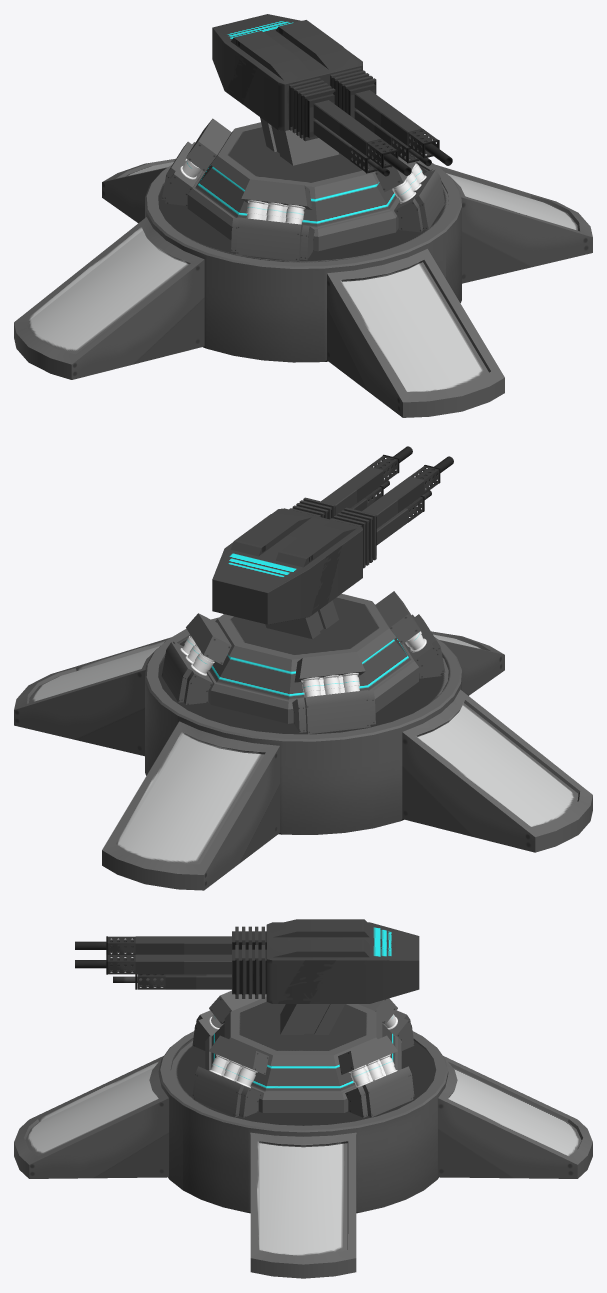
File: turret02_model.fbx
The picture shows the model from 3 angles, top to bottom: view 1: azimuth 30°, elevation 25°; view 2: azimuth 150°, elevation 25°; view 3: azimuth 270°, elevation 25°; orthographic projection. The views are drawn at different scales.
Visible parts, largest first — view 1: base_mesh, gun_base_mesh, turretHead_mesh, pipesBottom_mesh (×3), pipesTop_mesh (×3), barrel_back_r, neck_mesh, sideTube_mesh (×2), barrel_top_l, barrel_top_r, barrel_back_l, barrel_bottom_r; view 2: base_mesh, gun_base_mesh, turretHead_mesh, pipesBottom_mesh (×3), pipesTop_mesh (×3), sideTube_mesh (×2), barrel_top_r, barrel_top_l, neck_mesh, barrel_back_r, barrel_back_l; view 3: base_mesh, turretHead_mesh, gun_base_mesh, pipesBottom_mesh (×4), pipesTop_mesh (×3), barrel_top_l, barrel_top_r, barrel_back_l, neck_mesh, sideTube_mesh (×2), barrel_bottom_l, barrel_back_r.
Boxes of the visible parts, x1,y1,x2,y2 form: base_mesh: [14, 158, 592, 417]; gun_base_mesh: [187, 122, 399, 251]; turretHead_mesh: [212, 14, 362, 130]; pipesBottom_mesh (×3): [161, 141, 445, 261]; pipesTop_mesh (×3): [186, 118, 416, 209]; barrel_back_r: [289, 78, 335, 141]; neck_mesh: [260, 117, 339, 165]; sideTube_mesh (×2): [246, 163, 426, 224]; barrel_top_l: [354, 90, 422, 146]; barrel_top_r: [313, 100, 381, 155]; barrel_back_l: [330, 68, 376, 118]; barrel_bottom_r: [313, 119, 360, 160]; base_mesh: [14, 617, 592, 890]; gun_base_mesh: [207, 593, 418, 723]; turretHead_mesh: [212, 508, 362, 624]; pipesBottom_mesh (×3): [161, 614, 445, 734]; pipesTop_mesh (×3): [186, 591, 420, 682]; sideTube_mesh (×2): [180, 636, 359, 697]; barrel_top_r: [362, 476, 424, 528]; barrel_top_l: [321, 466, 383, 515]; neck_mesh: [265, 600, 338, 638]; barrel_back_r: [330, 507, 376, 568]; barrel_back_l: [289, 497, 335, 519]; base_mesh: [14, 1031, 592, 1278]; turretHead_mesh: [266, 919, 419, 1003]; gun_base_mesh: [205, 996, 401, 1112]; pipesBottom_mesh (×4): [192, 1010, 414, 1117]; pipesTop_mesh (×3): [209, 990, 397, 1074]; barrel_top_l: [135, 954, 231, 974]; barrel_top_r: [135, 936, 231, 954]; barrel_back_l: [232, 945, 266, 998]; neck_mesh: [280, 1004, 344, 1034]; sideTube_mesh (×2): [209, 1054, 397, 1088]; barrel_bottom_l: [165, 974, 231, 989]; barrel_back_r: [232, 926, 266, 949].
Size of the model in its own units: 11.93 by 5.02 by 11.93.
